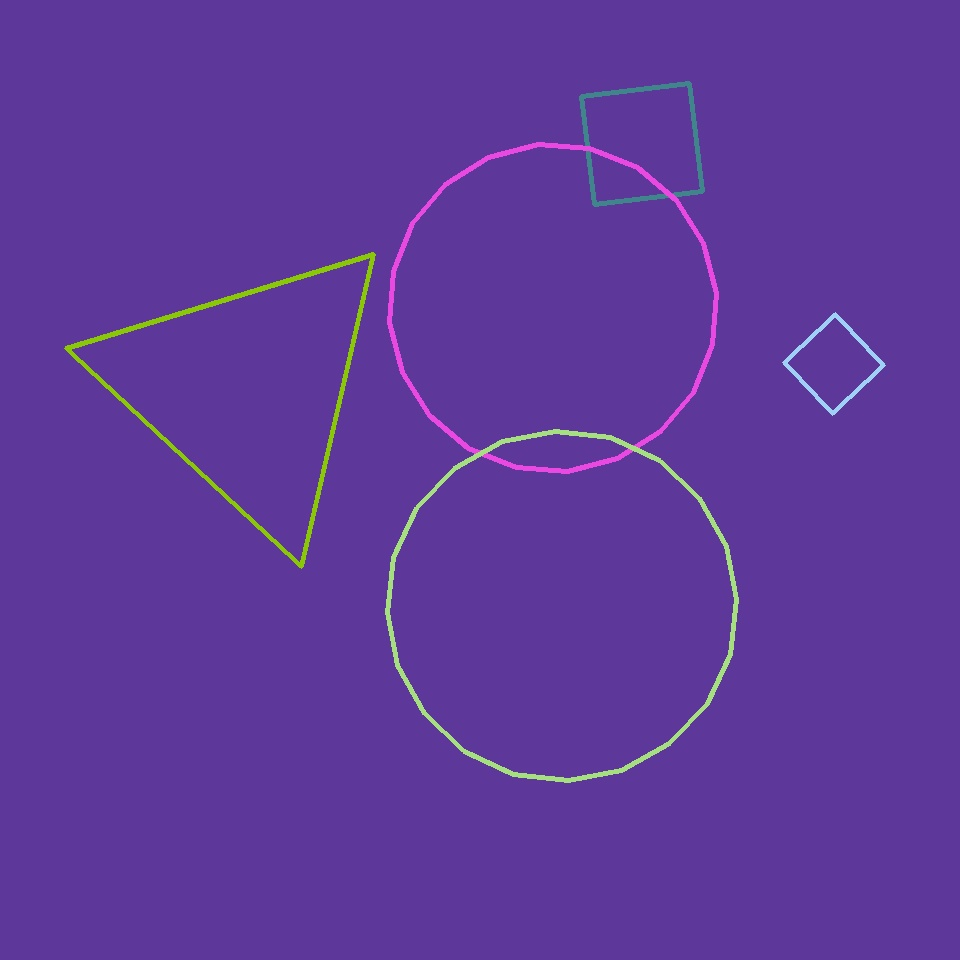circle: (93, 234, 400, 546)
square: (582, 84, 702, 204), (785, 314, 884, 414)
triangle: (388, 432, 736, 780), (390, 145, 716, 472)
